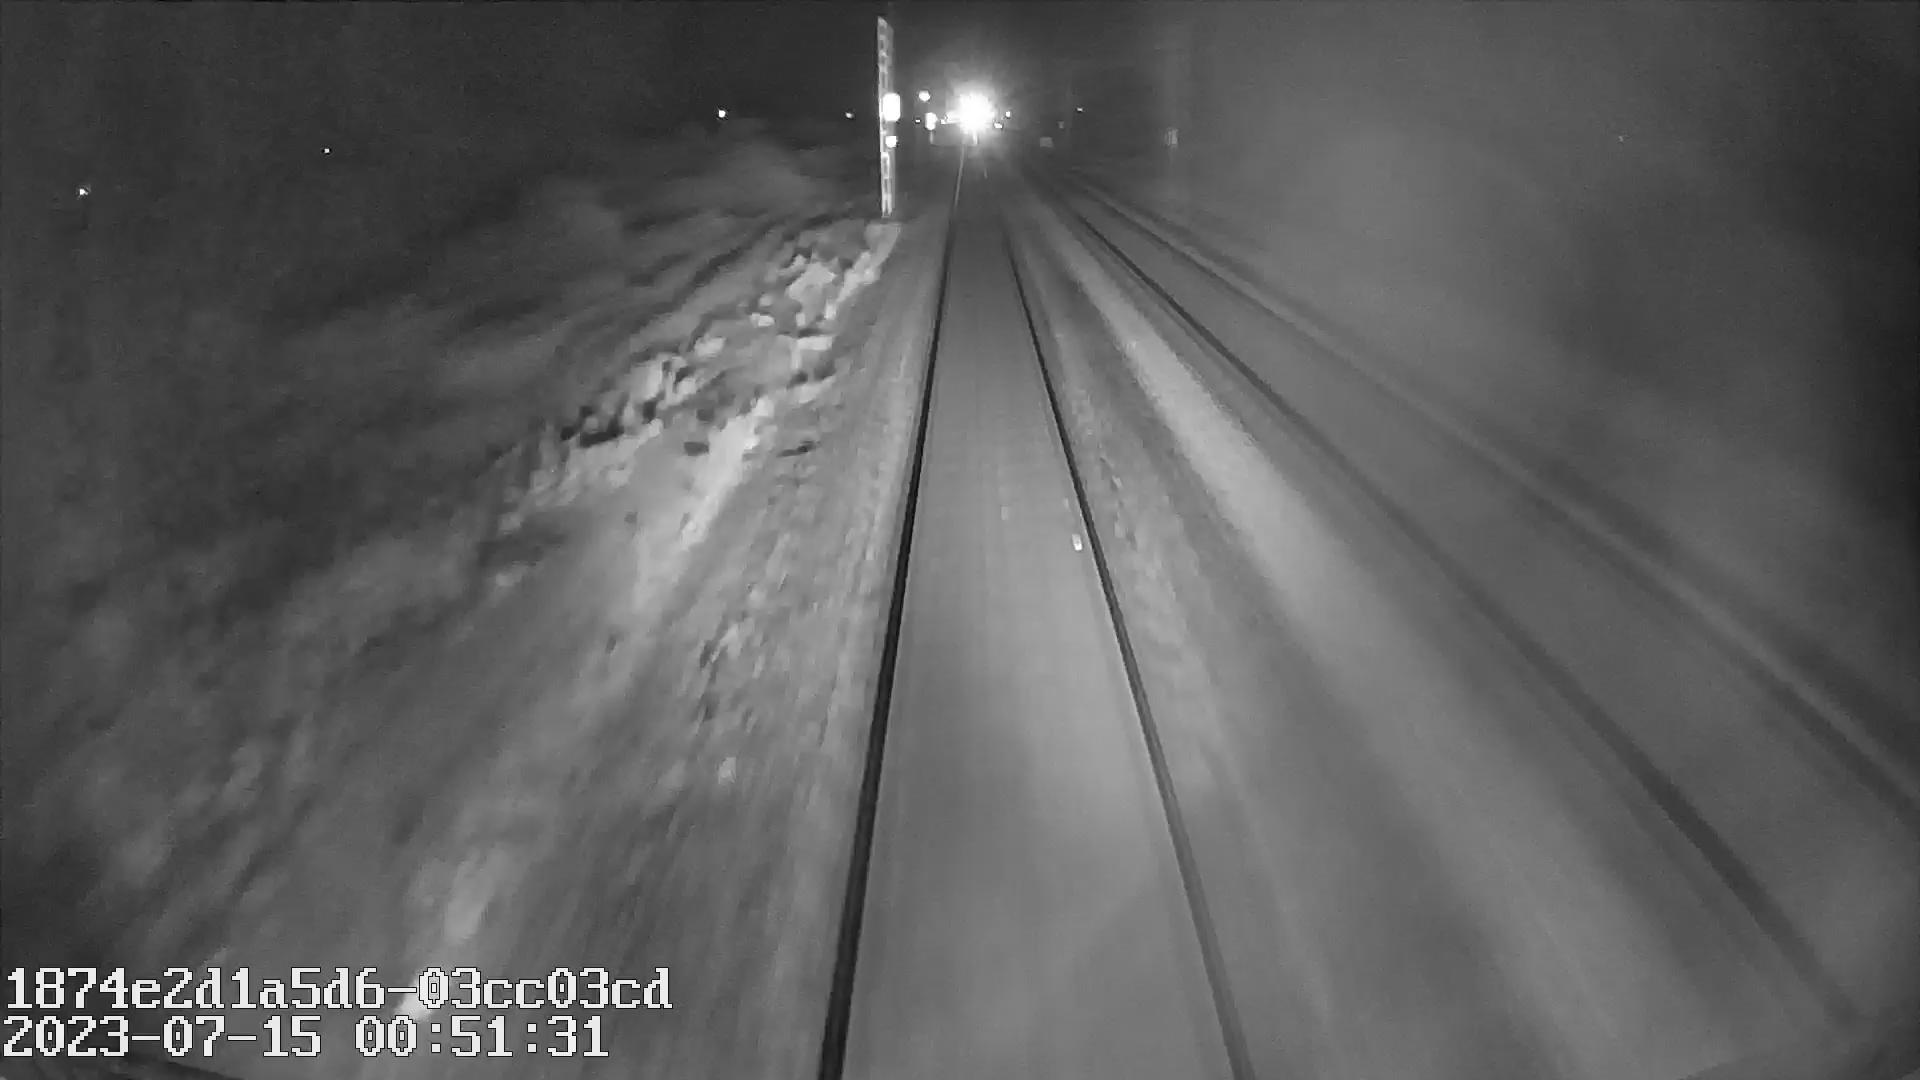track1: (833, 184, 1239, 1049)
track2: (1051, 181, 1909, 946)
